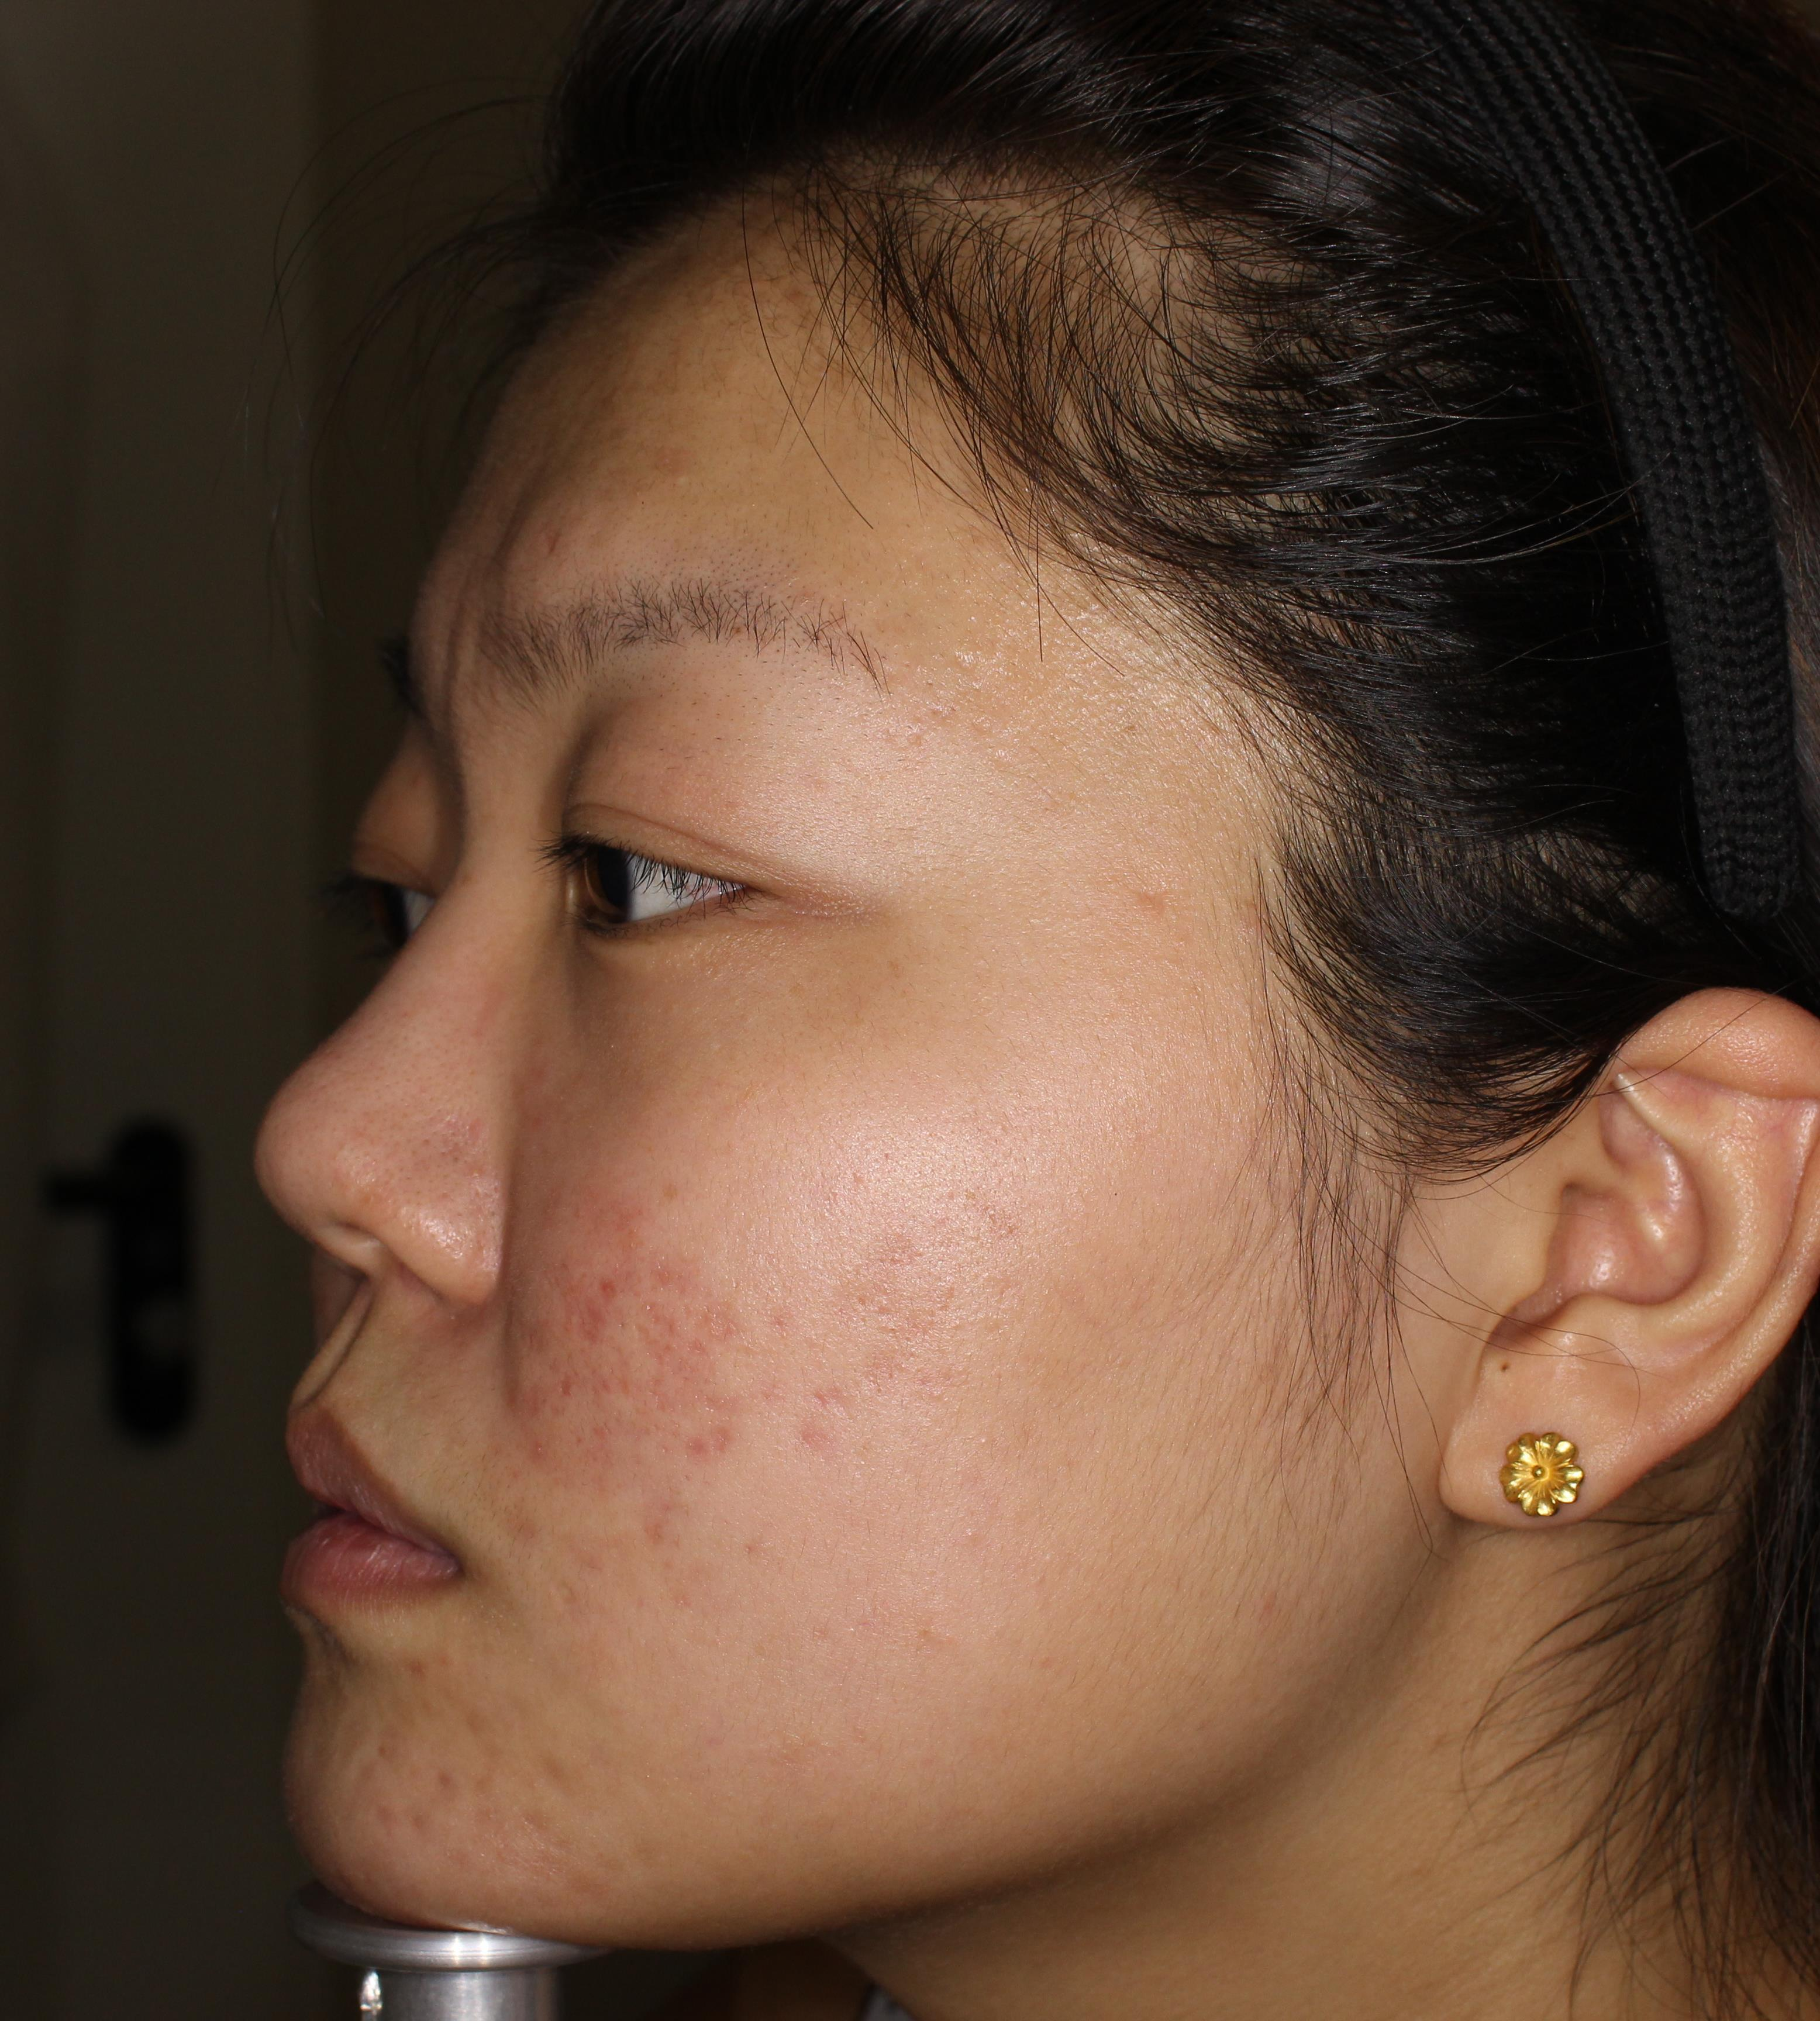fore: (516, 1320, 603, 1456), (548, 1262, 652, 1338)
